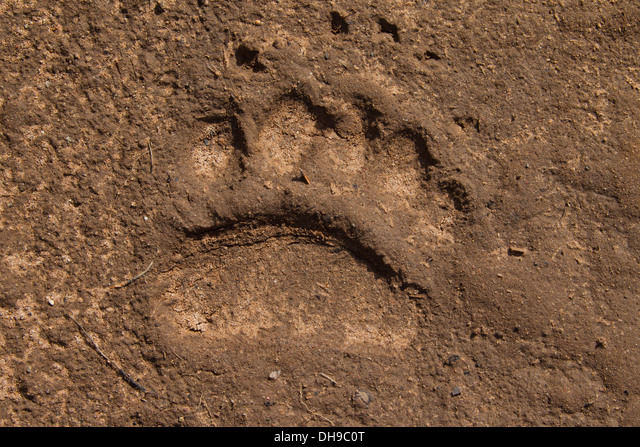bear: (115, 42, 475, 364)
